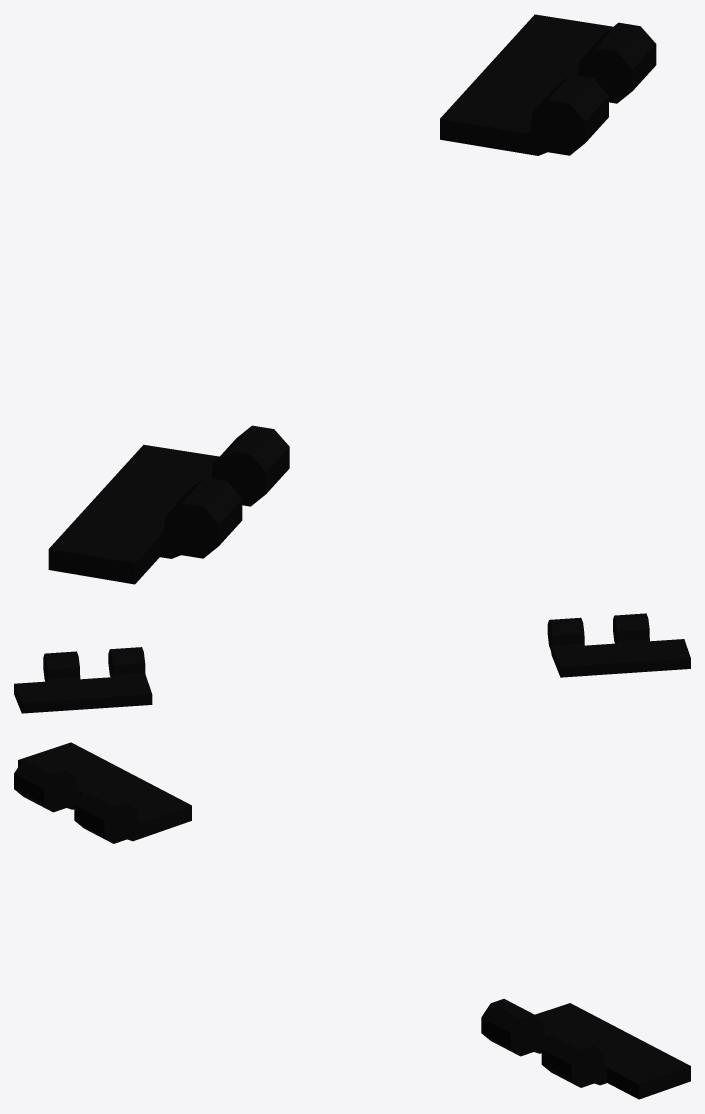
The model's file is mesh29.dat.obj.
The picture shows the model from 3 angles, top to bottom: view 1: azimuth 30°, elevation 25°; view 2: azimuth 150°, elevation 25°; view 3: azimuth 270°, elevation 25°; orthographic projection. The views are drawn at different scales.
Parts seen in each view (by area): view 1: hinge_bottom_low; view 2: hinge_bottom_low; view 3: hinge_bottom_low.
Part boxes in pixels (<box>): hinge_bottom_low: <box>48,14,656,584</box>; hinge_bottom_low: <box>14,613,690,713</box>; hinge_bottom_low: <box>14,742,690,1099</box>.
Bounding box in the file's own units: 2.65 × 0.1507 × 2.22.
Materials: 1 (1 with a texture image).
